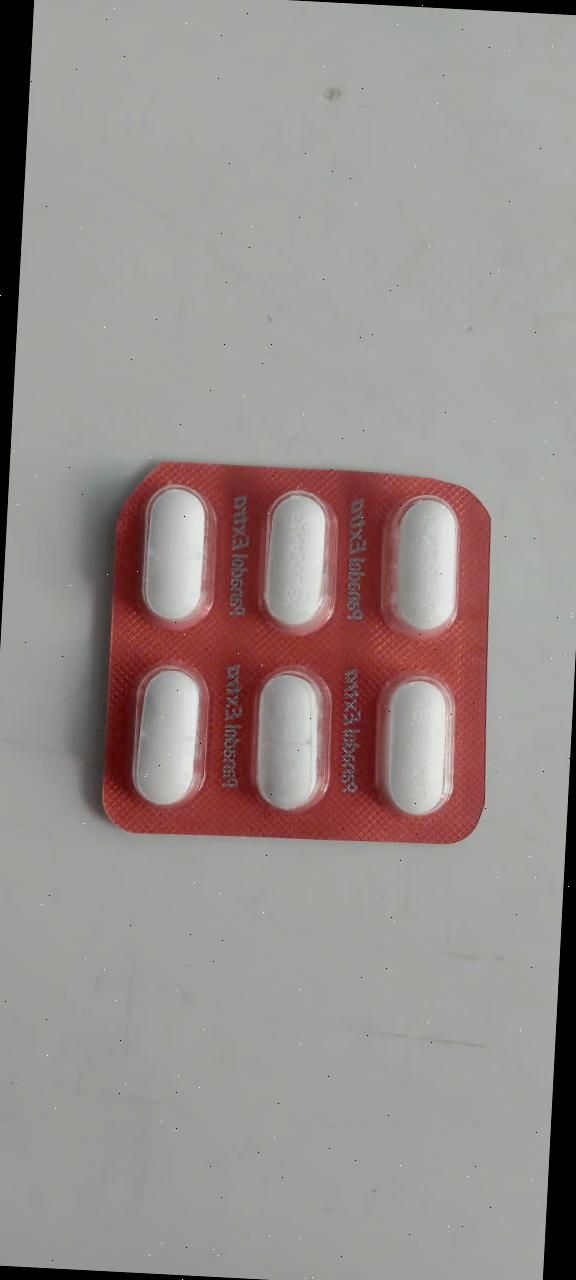Full: (123, 659, 212, 809), (248, 661, 337, 811), (377, 667, 466, 817), (134, 479, 223, 629), (259, 484, 348, 634), (386, 491, 475, 641)
